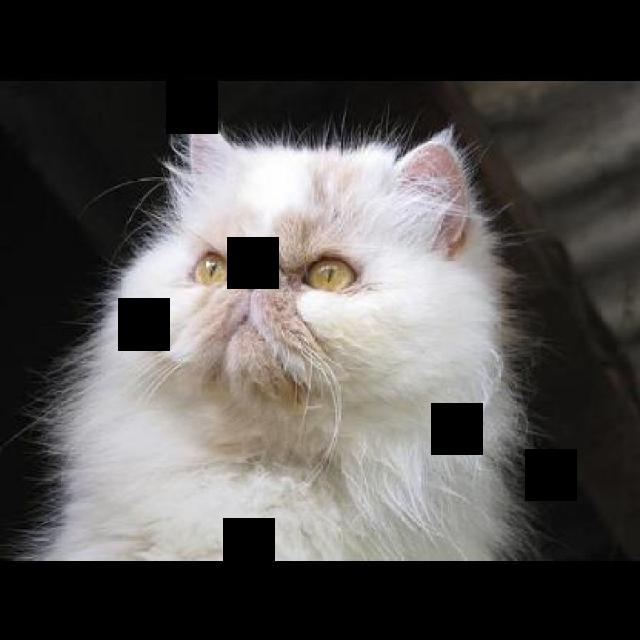unauthorized: (0, 100, 548, 560)
